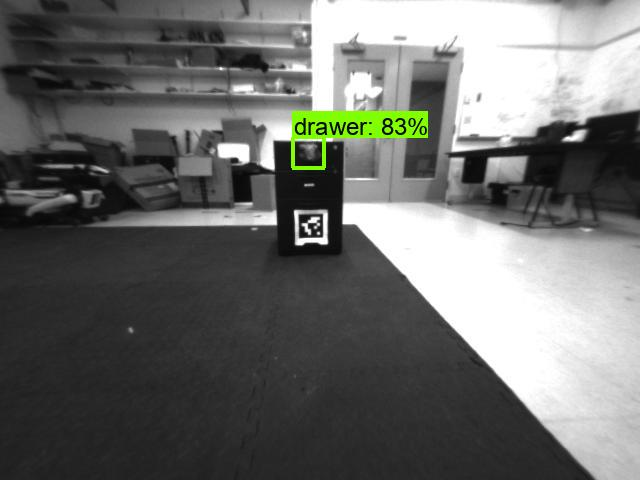door_handle: (376, 131, 395, 143)
drawer: (293, 137, 325, 170)
